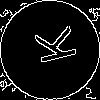K: (25, 25, 78, 68)
